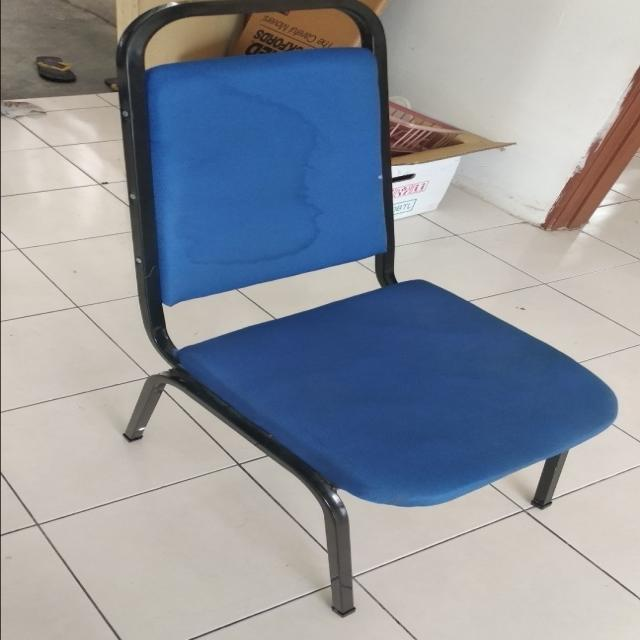chair: (102, 1, 626, 622)
